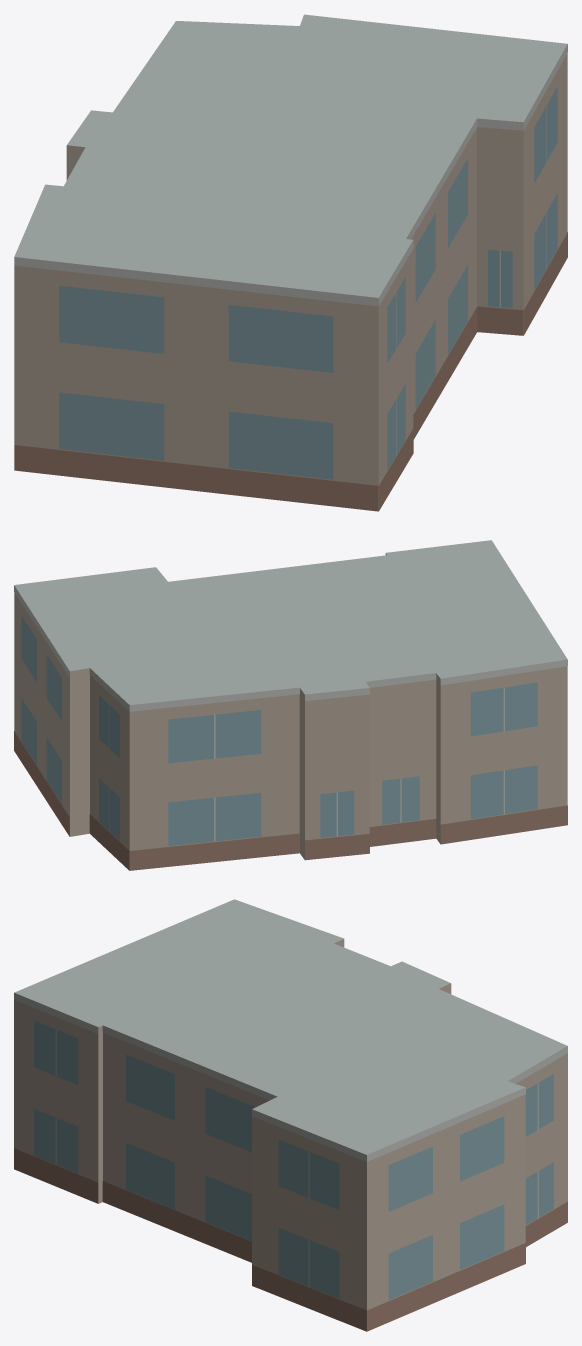
The model's file is survey-upis-32673634.glb.
3 views of the same model, one above another, from view 1: azimuth 30°, elevation 25°; view 2: azimuth 150°, elevation 25°; view 3: azimuth 270°, elevation 25° (orthographic). The views are drawn at different scales.
Visible parts, largest first — view 1: survey-upis-32673634.tmp; view 2: survey-upis-32673634.tmp; view 3: survey-upis-32673634.tmp.
Part boxes in pixels (x1=…): survey-upis-32673634.tmp: x1=14, y1=14, x2=567, y2=511; survey-upis-32673634.tmp: x1=14, y1=540, x2=567, y2=870; survey-upis-32673634.tmp: x1=14, y1=899, x2=567, y2=1331.
Bounding box in the file's own units: 18.95 × 6.1 × 17.34.
